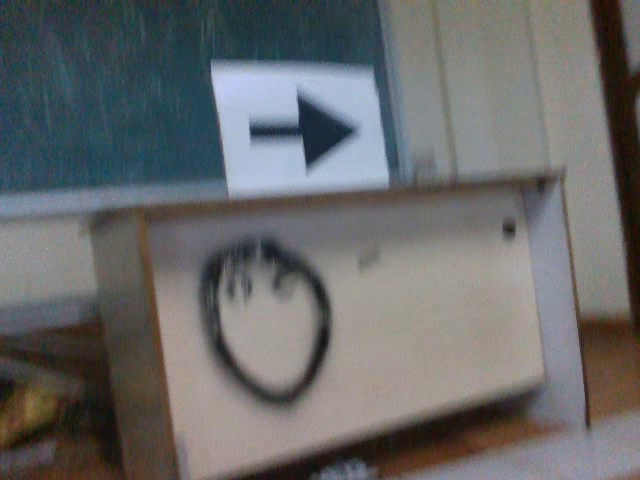Right: (241, 82, 366, 177)
